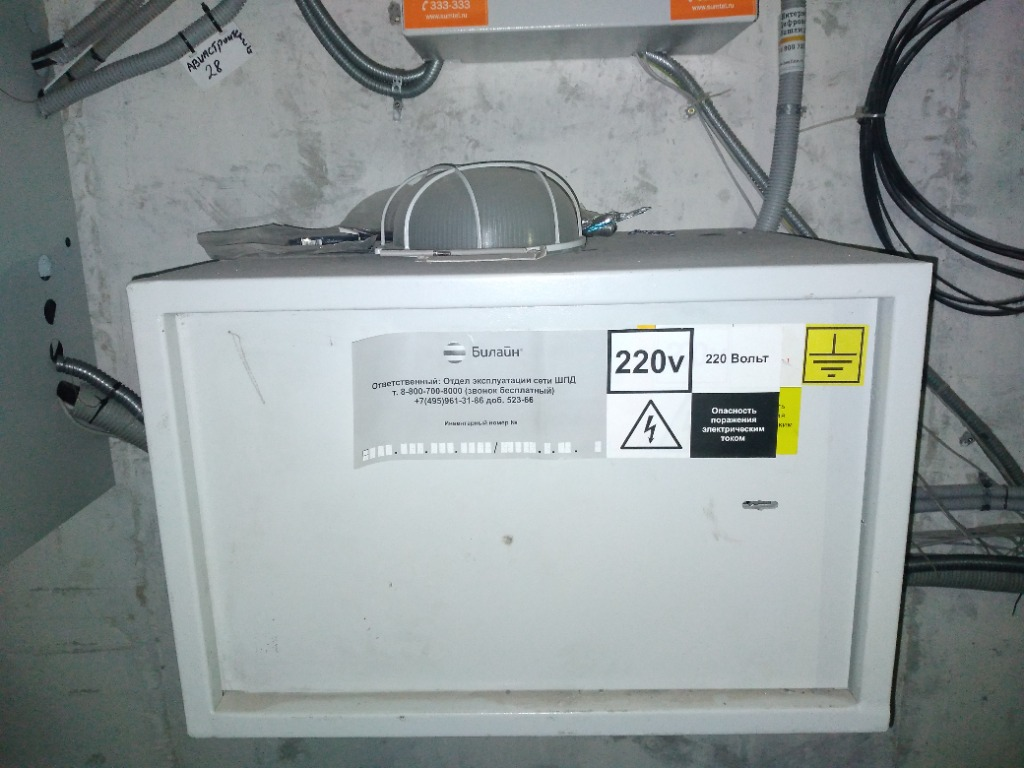shta-7m: (115, 196, 944, 745)
